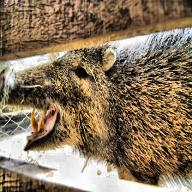boar: (0, 27, 192, 188)
